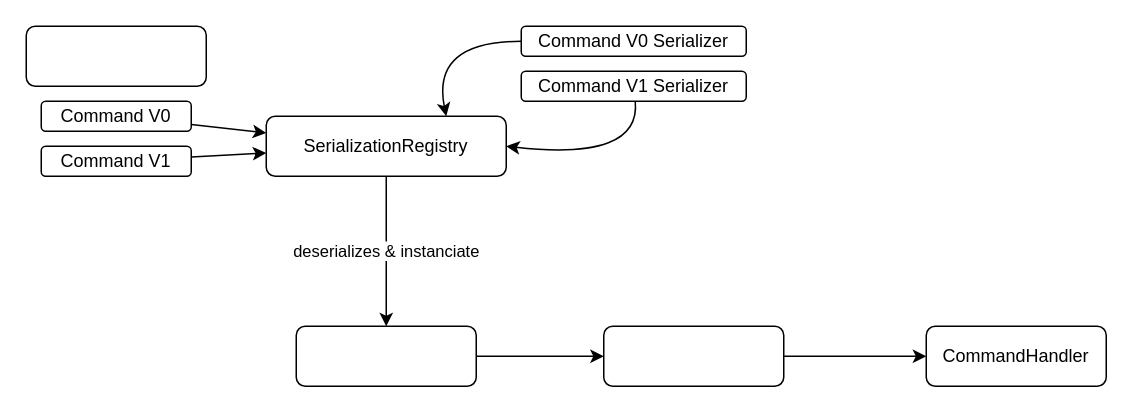
The diagram is 1133 pixels wide and 413 high, and some of its shapes have lost their labels. Here are the shapes that lost their labels. From the top down, the centre of each, then its label:
At pixel 115 55: "Network Adapter".
At pixel 385 355: "Command".
At pixel 693 355: "CommandBus".
